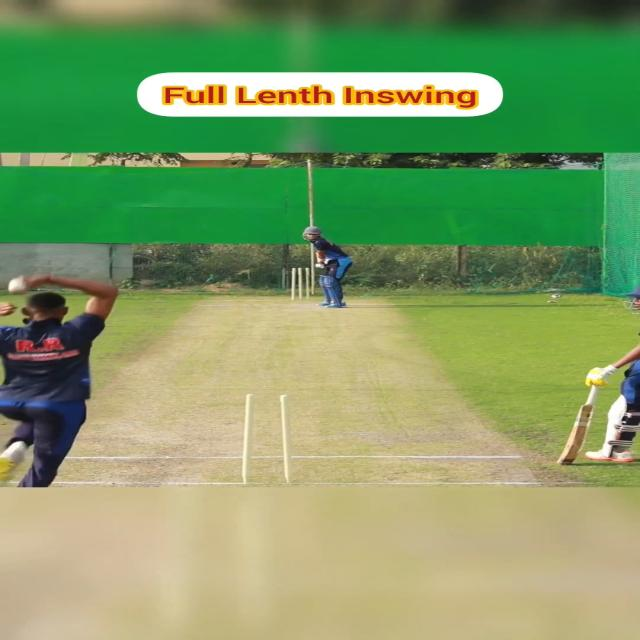stump: (241, 393, 296, 485), (291, 267, 312, 301)
